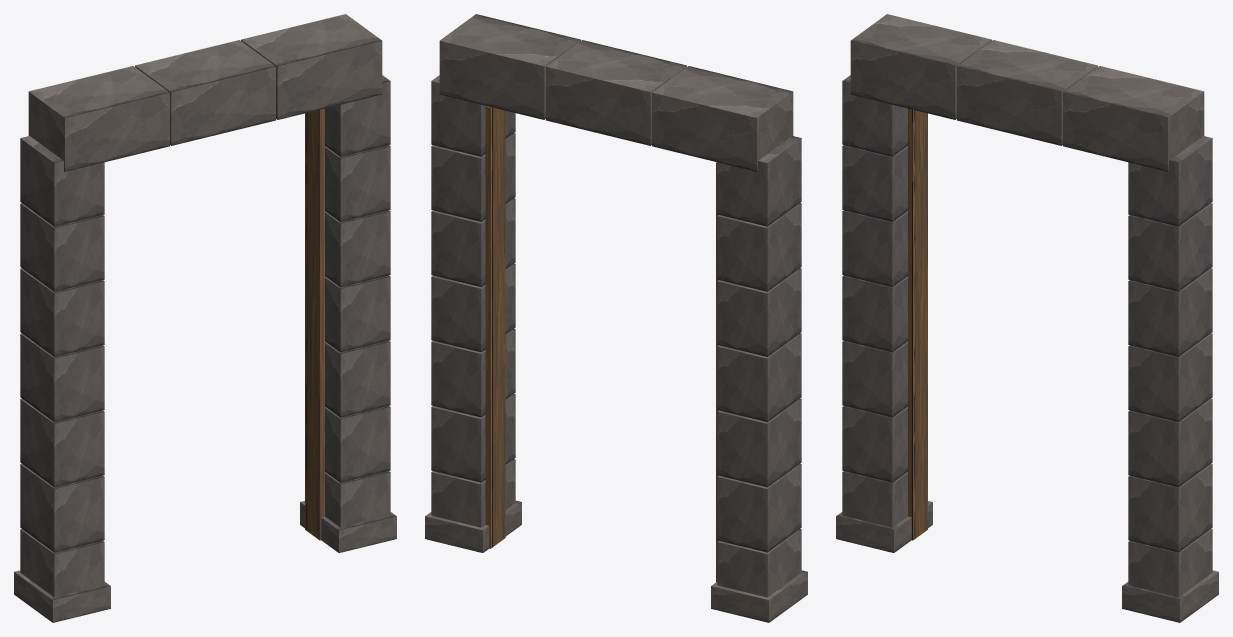
Rendered from entrance_frame.glb.
3 renders of one model, left to right at view 1: azimuth 30°, elevation 25°; view 2: azimuth 150°, elevation 25°; view 3: azimuth 330°, elevation 25°, orthographic.
Parts seen in each view (by area): view 1: winter_entrance_frame; view 2: winter_entrance_frame; view 3: winter_entrance_frame.
Boxes of the visible parts, x1,y1,x2,y2 form: winter_entrance_frame: (14,14,396,622); winter_entrance_frame: (425,14,807,622); winter_entrance_frame: (836,14,1218,622).
Bounding box in the file's own units: 1.74 × 2.42 × 0.34.
1 material, 1 textured.
